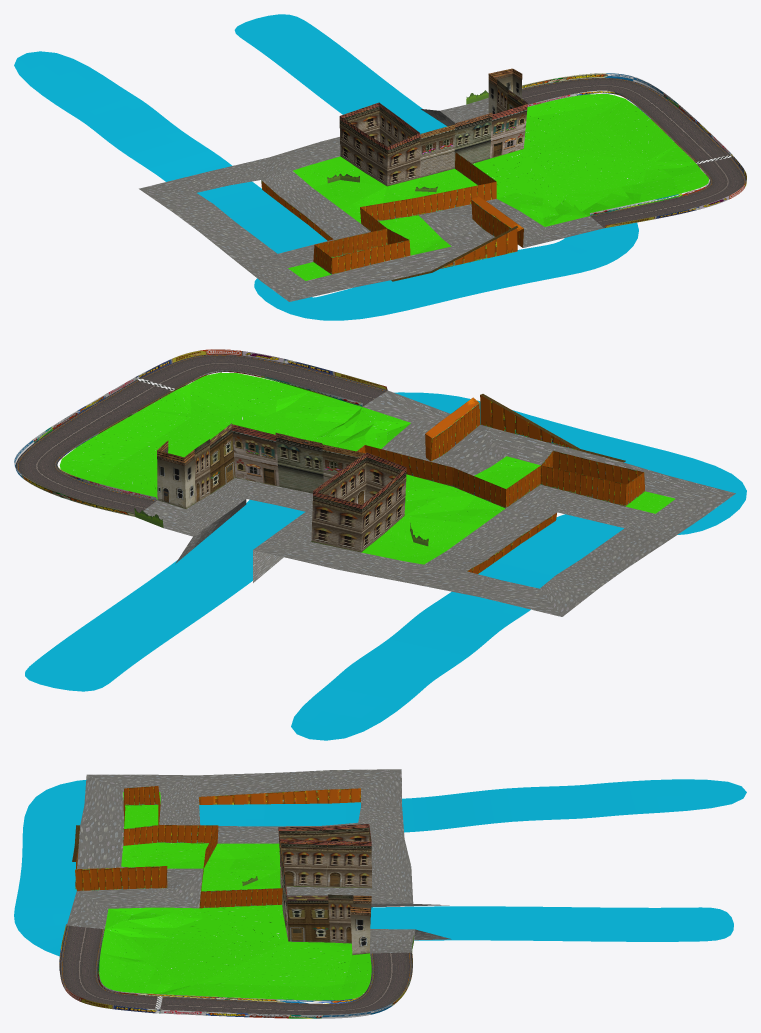
The model's file is Irsu Circuit brres.fbx.
The picture shows the model from 3 angles, top to bottom: view 1: azimuth 30°, elevation 25°; view 2: azimuth 150°, elevation 25°; view 3: azimuth 270°, elevation 25°; orthographic projection. The views are drawn at different scales.
Visible parts, largest first — view 1: water, grass, townroad, houses, fence, raceroad, ads 1, ads 2; view 2: water, townroad, grass, houses, raceroad, fence, ads 1, ads 2; view 3: water, grass, townroad, houses, raceroad, fence, ads 1, ads 2.
Boxes of the visible parts, x1,y1,x2,y2 form: water: [14, 14, 638, 320]; grass: [288, 94, 708, 280]; townroad: [139, 98, 603, 301]; houses: [339, 68, 527, 186]; fence: [261, 152, 523, 274]; raceroad: [521, 78, 746, 227]; ads 1: [522, 73, 730, 215]; ads 2: [604, 152, 746, 228]; water: [25, 392, 746, 740]; townroad: [143, 390, 735, 616]; grass: [59, 372, 675, 564]; houses: [157, 423, 406, 552]; raceroad: [15, 354, 387, 515]; fence: [356, 395, 644, 573]; ads 1: [14, 370, 362, 516]; ads 2: [136, 349, 387, 390]; water: [14, 779, 746, 956]; grass: [99, 792, 373, 1000]; townroad: [67, 769, 451, 953]; houses: [278, 824, 371, 955]; raceroad: [60, 925, 412, 1014]; fence: [75, 786, 360, 908]; ads 1: [97, 927, 412, 1018]; ads 2: [59, 924, 160, 1013].
Size of the model in its own units: 49761 by 6490 by 60452.
